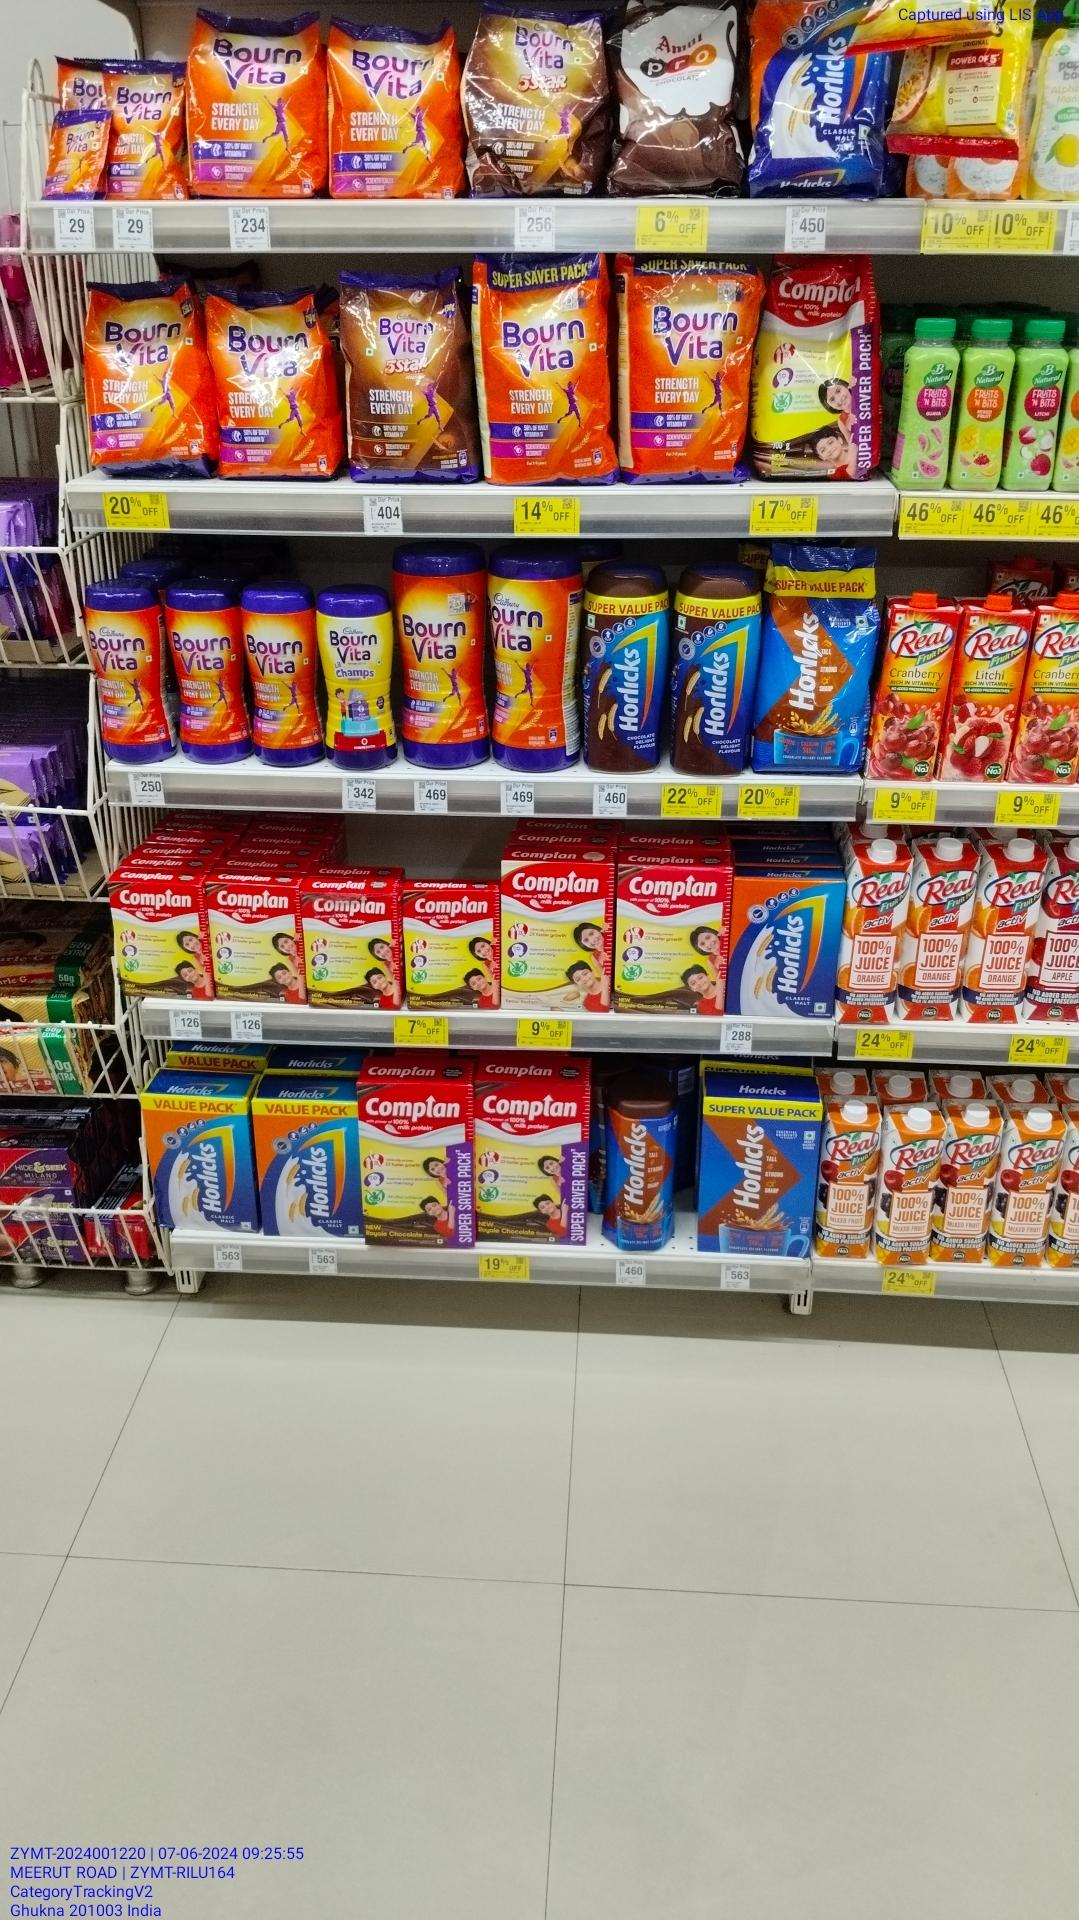BOURN_VITA_1_KG_JAR: (396, 551, 487, 769), (491, 556, 571, 773)
BOURN_VITA_1_KG_POUCH: (476, 256, 615, 484), (627, 255, 751, 480)
BOURN_VITA_500_G_JAR: (80, 584, 162, 765), (244, 588, 321, 769), (165, 585, 240, 762)
BOURN_VITA_500_G_POUCH: (194, 13, 327, 199), (332, 24, 456, 198)
BOURN_VITA_750_G_POUCH: (208, 287, 332, 480), (87, 281, 202, 476)
BOURN_VITA_75_G_POUCH: (104, 61, 185, 200)
BOURN_VITA_CHAMPS_500_G_JAR: (323, 593, 394, 777)
BOURN_VITA_FIVE_STAR_MAGIC_500_G_POUCH: (471, 9, 612, 198)
BOURN_VITA_FIVE_STAR_MAGIC_750_G_POUCH: (347, 273, 470, 483)
COMPLAN_CHOCOLATE_1_KG_PACK: (357, 1080, 472, 1245), (474, 1079, 586, 1242)
COMPLAN_CHOCOLATE_200_GMS_PACK: (207, 881, 303, 1005), (108, 881, 207, 997), (303, 893, 397, 1011), (405, 890, 496, 1010)
COMPLAN_CHOCOLATE_500_GMS_PACK: (620, 866, 725, 1017)
COMPLAN_KESAR_BADAM_500_GMS_PACK: (505, 861, 612, 1013)
COMPLAN_RC_POUCH_700_GMS_12: (757, 248, 885, 480)
HORLICK_CHOCOLATE_1_KG_JAR: (609, 1100, 675, 1253)
HORLICK_CHOCOLATE_1_KG_PACK: (702, 1095, 815, 1257)
HORLICK_CLASSIC_MALT_500_G_PACK: (142, 1092, 253, 1230), (733, 876, 839, 1017), (255, 1100, 355, 1238)
HORLICK_CLASSIC_MALT_750_G_POUCH: (748, 0, 881, 175)
